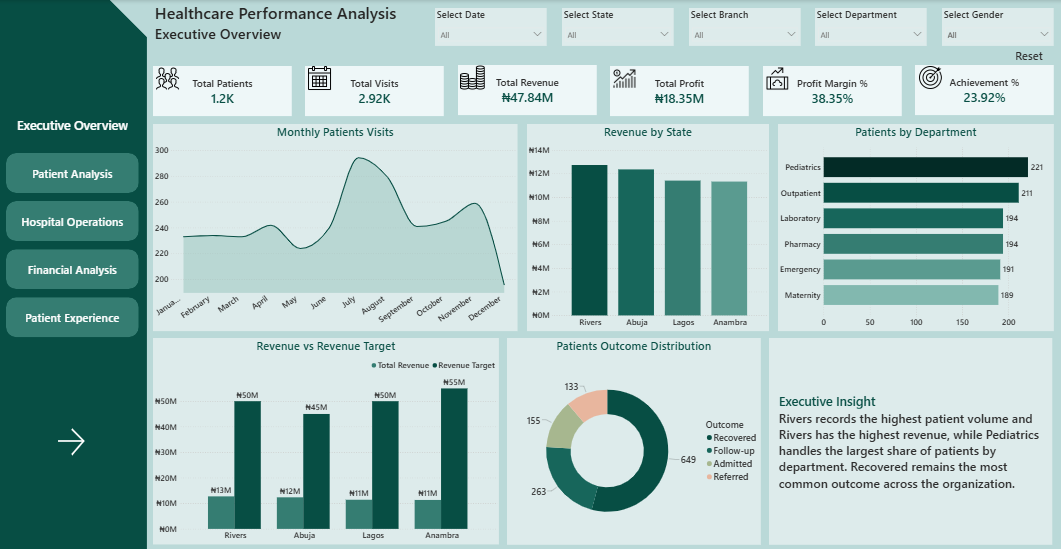

This screenshot's page, from the dashboard's own definition file:
{"tool":"powerbi","page":{"name":"Executive Overview","canvas":[3140,1625],"ordinal":0},"visuals":[{"type":"cardVisual","fields":{"Data":["Date_Table.Total Patients"]},"box":[455,193.7,410,148],"z":0},{"type":"cardVisual","fields":{"Data":["Date_Table.Total Visits"]},"box":[905.3,193.7,410,148],"z":1000},{"type":"cardVisual","fields":{"Data":["Date_Table.Total Revenue"]},"box":[1355.6,193.3,410,148.4],"z":2000},{"type":"shape","box":[0,0,437.3,1625],"z":3000},{"type":"lineChart","title":"Monthly Patients Visits","fields":{"Y":["Date_Table.Total Visits"],"Category":["Date_Table.Month"]},"box":[455,365.8,1077,612],"z":4000},{"type":"clusteredColumnChart","title":"Revenue vs Revenue Target","fields":{"Category":["State_Targets.State"],"Y":["Date_Table.Total Revenue","Date_Table.Revenue Target"]},"box":[455,999.3,1022.3,610],"z":5000},{"type":"donutChart","title":"Patients Outcome Distribution","fields":{"Category":["Patient_Visits.Outcome"],"Y":["Date_Table.Total Patients"]},"box":[1500.9,998.6,750.5,611],"z":6000},{"type":"columnChart","title":"Revenue by State","fields":{"Y":["Date_Table.Total Revenue"],"Category":["Patient_Visits.State"]},"box":[1560,366.4,715,611.6],"z":7000},{"type":"barChart","title":"Patients by Department","fields":{"Category":["Patient_Visits.Department"],"Y":["Date_Table.Total Patients"]},"box":[2301.9,365.8,815.5,611.6],"z":8000},{"type":"textbox","box":[455,0,783.9,161.3],"z":9000},{"type":"slicer","title":"Select Date","fields":{"Values":["Date_Table.Date"]},"box":[1288.2,23.5,330,112.3],"z":10000},{"type":"slicer","title":"Select State","fields":{"Values":["Patient_Visits.State"]},"box":[1662.8,23.5,330,112.3],"z":11000},{"type":"slicer","title":"Select Branch","fields":{"Values":["Patient_Visits.Branch"]},"box":[2037.4,23.5,330,112.3],"z":12000},{"type":"slicer","title":"Select Department","fields":{"Values":["Patient_Visits.Department"]},"box":[2412,23.6,330,112.3],"z":13000},{"type":"slicer","title":"Select Gender","fields":{"Values":["Patient_Visits.Gender"]},"box":[2786.6,23.5,330,112.3],"z":14000},{"type":"cardVisual","fields":{"Data":["Date_Table.Total Profit"]},"box":[1805.8,193.7,410,148],"z":15000},{"type":"cardVisual","fields":{"Data":["Date_Table.Profit Margin %"]},"box":[2256.1,193.7,410,148],"z":16000},{"type":"cardVisual","fields":{"Data":["Date_Table.Achievement %"]},"box":[2706.4,192,410,148],"z":17000},{"type":"image","box":[455,195,85.7,73.9],"z":18000},{"type":"image","box":[904.1,195,85.7,73.9],"z":19000},{"type":"image","box":[1356.1,192,85,73.9],"z":20000},{"type":"image","box":[1805.2,195,85,73],"z":21000},{"type":"image","box":[2257.3,195,85,73.9],"z":22000},{"type":"image","box":[2709.3,192,85,73.9],"z":23000},{"type":"cardVisual","fields":{"Data":["Date_Table.Executive Insight"]},"box":[2275.7,999.4,837.3,611.1],"z":24000},{"type":"pageNavigator","box":[20.7,310.2,392,688],"z":25000},{"type":"actionButton","box":[2975.2,135.9,135.9,53.2],"z":26000},{"type":"actionButton","box":[166.7,1257.6,100,93.9],"z":27000}]}

Visuals, with their boxes in screenshot pixels (x1, y1, x2, y2), scaled from the page's 3140x1625 canvas onto the 1061x549 screenshot:
cardVisual - Date_Table.Total Patients: 154,65,292,115
cardVisual - Date_Table.Total Visits: 306,65,444,115
cardVisual - Date_Table.Total Revenue: 458,65,597,115
shape: 0,0,148,548
"Monthly Patients Visits" lineChart: 154,124,518,330
"Revenue vs Revenue Target" clusteredColumnChart: 154,338,499,544
"Patients Outcome Distribution" donutChart: 507,337,761,544
"Revenue by State" columnChart: 527,124,769,330
"Patients by Department" barChart: 778,124,1053,330
textbox: 154,0,419,54
"Select Date" slicer: 435,8,547,46
"Select State" slicer: 562,8,673,46
"Select Branch" slicer: 688,8,800,46
"Select Department" slicer: 815,8,927,46
"Select Gender" slicer: 942,8,1053,46
cardVisual - Date_Table.Total Profit: 610,65,749,115
cardVisual - Date_Table.Profit Margin %: 762,65,901,115
cardVisual - Date_Table.Achievement %: 914,65,1053,115
image: 154,66,183,91
image: 305,66,334,91
image: 458,65,487,90
image: 610,66,639,91
image: 763,66,791,91
image: 915,65,944,90
cardVisual - Date_Table.Executive Insight: 769,338,1052,544
pageNavigator: 7,105,139,337
actionButton: 1005,46,1051,64
actionButton: 56,425,90,457
